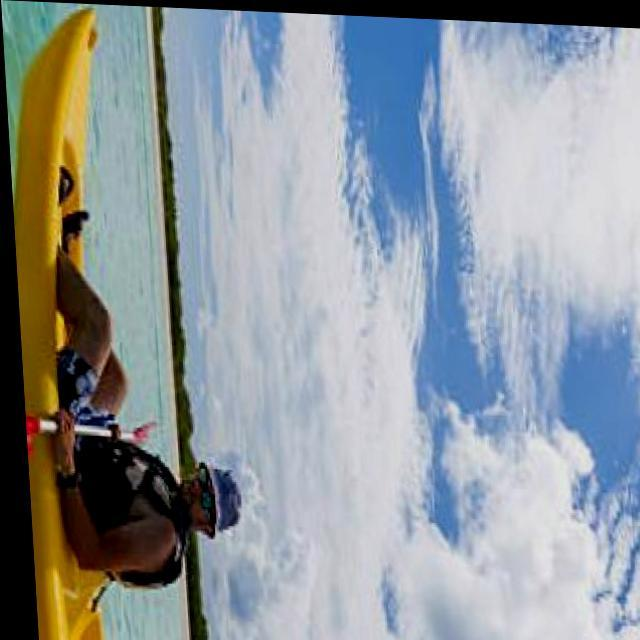kayak: (10, 10, 96, 406)
